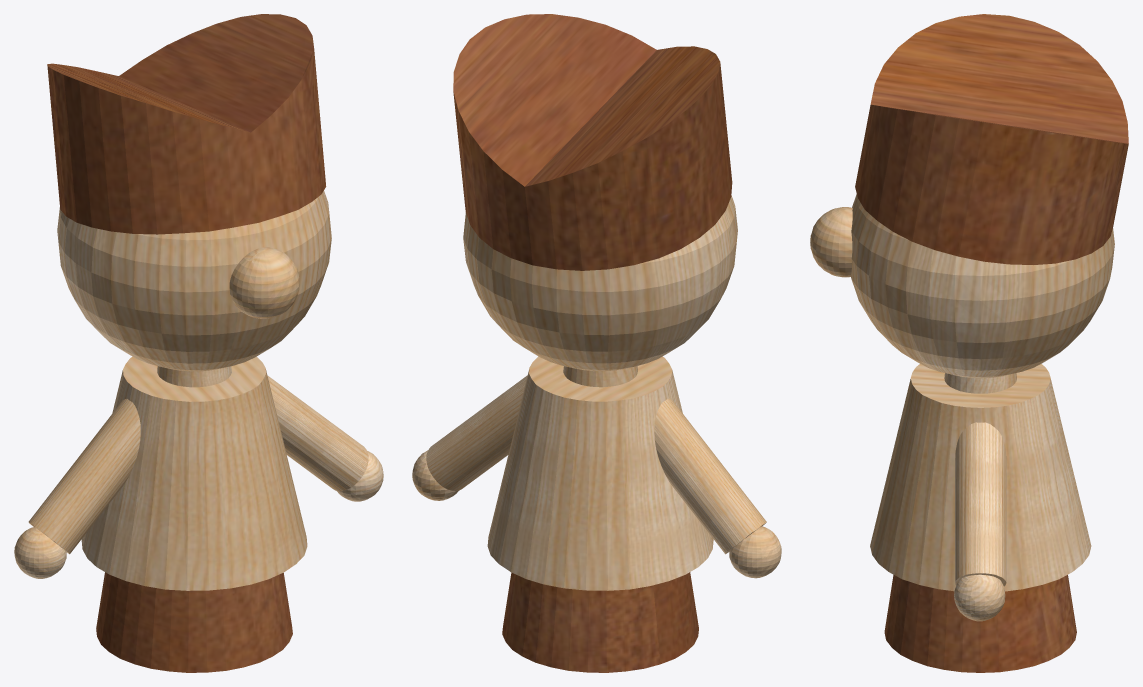
Rendered from sweethome3d-blendswap-cc-0-wood-toy.glb.
3 views of the same model, side by side, from view 1: azimuth 30°, elevation 25°; view 2: azimuth 150°, elevation 25°; view 3: azimuth 270°, elevation 25° (orthographic). The views are drawn at different scales.
Parts seen in each view (by area): view 1: S_SerbianHat_Cylinder.006, S_Body_Cylinder.001, S_Head_Sphere.001, S_Legs_Cylinder.002, S_Rhand_Cylinder.003, S_Lhand_Cylinder.004, S_nose_Sphere.002, S_Rfingers_Sphere.003, S_Neck_Cylinder, S_Lfingers_Sphere.004; view 2: S_SerbianHat_Cylinder.006, S_Body_Cylinder.001, S_Head_Sphere.001, S_Legs_Cylinder.002, S_Rhand_Cylinder.003, S_Lhand_Cylinder.004, S_Rfingers_Sphere.003, S_Neck_Cylinder, S_Lfingers_Sphere.004; view 3: S_SerbianHat_Cylinder.006, S_Body_Cylinder.001, S_Head_Sphere.001, S_Legs_Cylinder.002, S_Lhand_Cylinder.004, S_nose_Sphere.002, S_Lfingers_Sphere.004, S_Neck_Cylinder.
Boxes of the visible parts, x1,y1,x2,y2 form: S_SerbianHat_Cylinder.006: (47,14,326,234); S_Body_Cylinder.001: (81,356,307,590); S_Head_Sphere.001: (57,191,331,371); S_Legs_Cylinder.002: (96,572,292,672); S_Rhand_Cylinder.003: (28,398,140,554); S_Lhand_Cylinder.004: (267,375,368,491); S_nose_Sphere.002: (229,247,299,318); S_Rfingers_Sphere.003: (14,527,66,578); S_Neck_Cylinder: (157,366,231,387); S_Lfingers_Sphere.004: (337,451,383,501); S_SerbianHat_Cylinder.006: (453,14,732,270); S_Body_Cylinder.001: (487,356,713,590); S_Head_Sphere.001: (463,195,737,371); S_Legs_Cylinder.002: (502,572,698,672); S_Rhand_Cylinder.003: (654,398,766,554); S_Lhand_Cylinder.004: (426,375,527,491); S_Rfingers_Sphere.003: (729,526,781,578); S_Neck_Cylinder: (563,366,637,387); S_Lfingers_Sphere.004: (412,450,458,500); S_SerbianHat_Cylinder.006: (855,14,1128,264); S_Body_Cylinder.001: (870,364,1091,591); S_Head_Sphere.001: (851,194,1114,378); S_Legs_Cylinder.002: (884,574,1076,672); S_Lhand_Cylinder.004: (955,422,1006,586); S_nose_Sphere.002: (810,207,852,277); S_Lfingers_Sphere.004: (954,574,1005,621); S_Neck_Cylinder: (944,373,1016,393).
Size of the model in its own units: 7.65 by 11.65 by 5.96.
2 materials, 2 textured.
